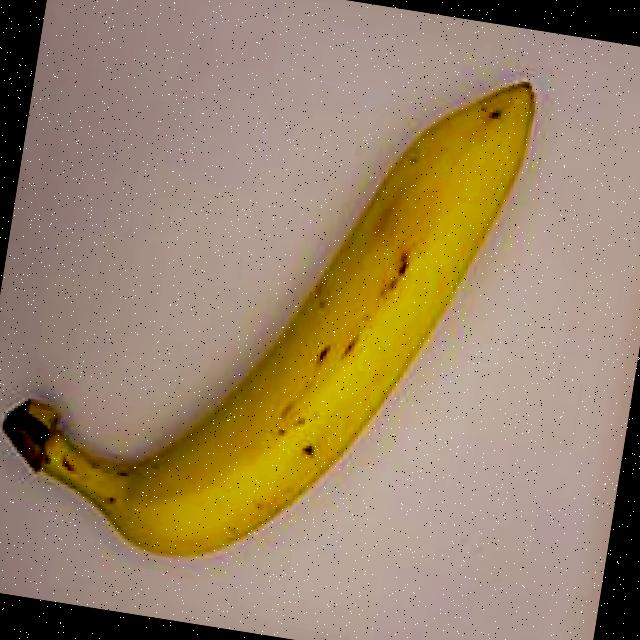Ripe: (0, 0, 588, 637)
